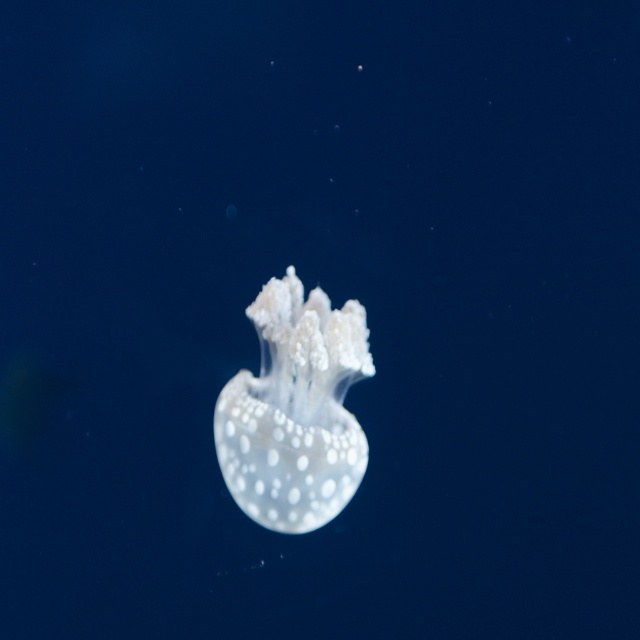Jellyfish: (211, 259, 376, 538)
